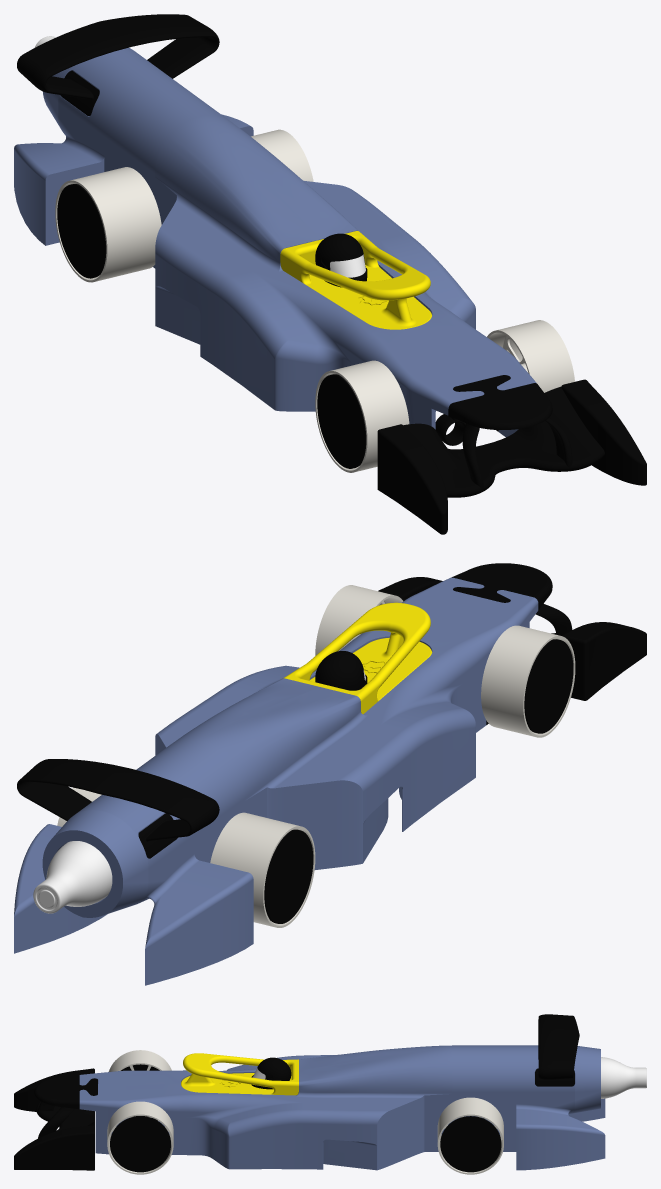
Rendered from aeris-v3.glb.
3 views of the same model, one above another, from view 1: azimuth 30°, elevation 25°; view 2: azimuth 150°, elevation 25°; view 3: azimuth 270°, elevation 25° (orthographic). The views are drawn at different scales.
Parts seen in each view (by area): view 1: ChÃ¢ssi, Aileron avant, Aileron arriÃ¨re, Halo with deeper notch Revision 2 For Release, Roue ar dr, Roue av dr, Roue av ga, Flasque av dr, Flasque ar dr, Bell Helmet with dowel, Roue ar ga; view 2: ChÃ¢ssi, Aileron arriÃ¨re, Aileron avant, Halo with deeper notch Revision 2 For Release, Roue av dr, Roue ar dr, F1CO2STD & F1CO2CMP, Flasque ar dr, Flasque av dr, Roue av ga, Bell Helmet with dowel; view 3: ChÃ¢ssi, Aileron avant, Halo with deeper notch Revision 2 For Release, Aileron arriÃ¨re, Flasque ar ga, Flasque av ga, Roue ar ga, Roue av ga, F1CO2STD & F1CO2CMP, Roue av dr, Bell Helmet with dowel.
Boxes of the visible parts, left/top/right/bottom form: ChÃ¢ssi: left=14, top=47, right=536, bottom=437; Aileron avant: left=377, top=375, right=646, bottom=534; Aileron arriÃ¨re: left=17, top=14, right=219, bottom=115; Halo with deeper notch Revision 2 For Release: left=280, top=231, right=432, bottom=329; Roue ar dr: left=55, top=167, right=161, bottom=282; Roue av dr: left=315, top=360, right=409, bottom=472; Roue av ga: left=487, top=320, right=574, bottom=392; Flasque av dr: left=317, top=374, right=366, bottom=468; Flasque ar dr: left=57, top=184, right=106, bottom=278; Bell Helmet with dowel: left=315, top=233, right=367, bottom=287; Roue ar ga: left=251, top=129, right=313, bottom=181; ChÃ¢ssi: left=14, top=577, right=538, bottom=985; Aileron arriÃ¨re: left=17, top=759, right=219, bottom=858; Aileron avant: left=378, top=563, right=646, bottom=700; Halo with deeper notch Revision 2 For Release: left=283, top=602, right=432, bottom=714; Roue av dr: left=481, top=625, right=575, bottom=737; Roue ar dr: left=210, top=812, right=315, bottom=927; F1CO2STD & F1CO2CMP: left=33, top=841, right=112, bottom=913; Flasque ar dr: left=264, top=829, right=313, bottom=923; Flasque av dr: left=524, top=639, right=573, bottom=733; Roue av ga: left=315, top=585, right=403, bottom=655; Bell Helmet with dowel: left=315, top=651, right=367, bottom=690; ChÃ¢ssi: left=79, top=1045, right=605, bottom=1170; Aileron avant: left=14, top=1068, right=97, bottom=1170; Halo with deeper notch Revision 2 For Release: left=181, top=1053, right=298, bottom=1095; Aileron arriÃ¨re: left=535, top=1014, right=579, bottom=1086; Flasque ar ga: left=440, top=1116, right=501, bottom=1172; Flasque av ga: left=110, top=1116, right=170, bottom=1172; Roue ar ga: left=437, top=1097, right=503, bottom=1174; Roue av ga: left=107, top=1101, right=173, bottom=1174; F1CO2STD & F1CO2CMP: left=601, top=1057, right=646, bottom=1098; Roue av dr: left=108, top=1050, right=171, bottom=1071; Bell Helmet with dowel: left=251, top=1057, right=291, bottom=1089.
Bounding box in the file's own units: 0.0651 × 0.051 × 0.2681.
